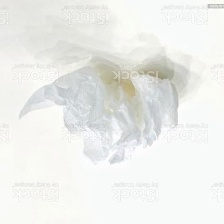tissue: (13, 53, 185, 171)
